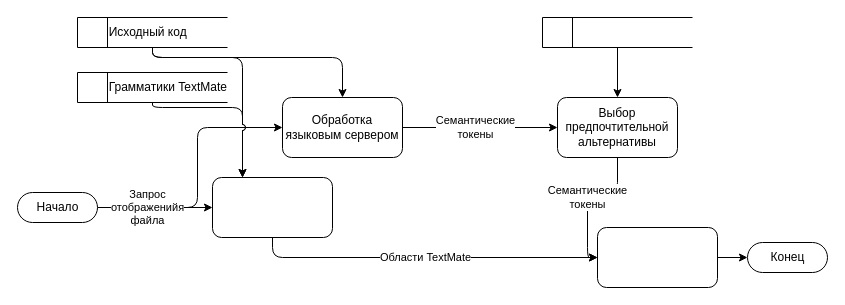
Some shapes in this 845 by 305 pixel diagram are drawn without their labels. The shapes that lost their labels are listed below. From the top down, each one's centre as x and y in pixels, then its label:
pixel 617 32: Предпочтения пользователя
pixel 272 207: Применение грамматик TextMate
pixel 657 257: Отображение
